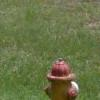Hydrant: (34, 50, 81, 100)
